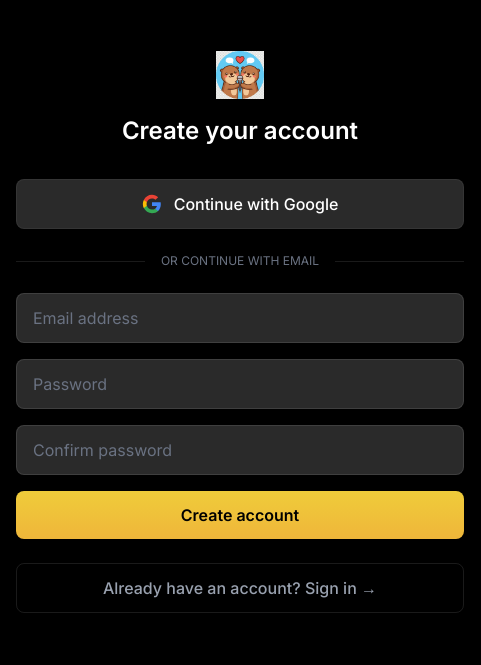
SignUpPage › shows error when fields are empty
Click the button "Create account" at (240, 515), box [16, 491, 464, 539]
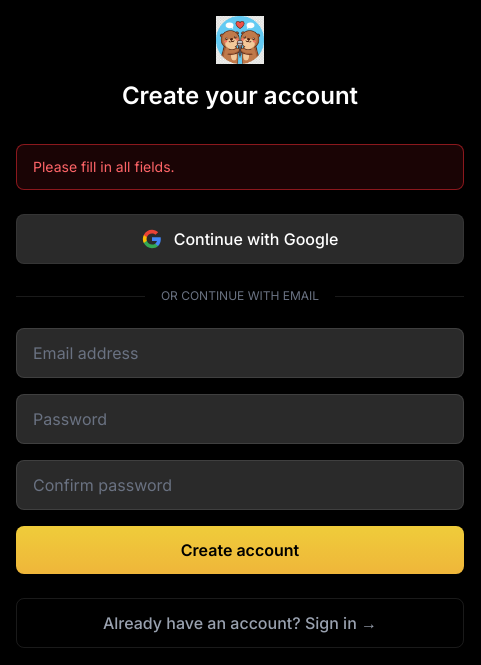
Check: the text "Please fill in all fields." is shown, box [16, 144, 464, 190]
